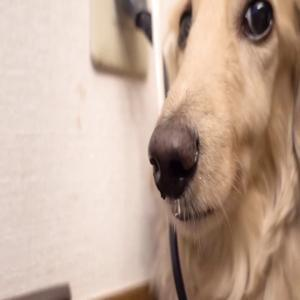nasal_discharge: (154, 176, 186, 220)
